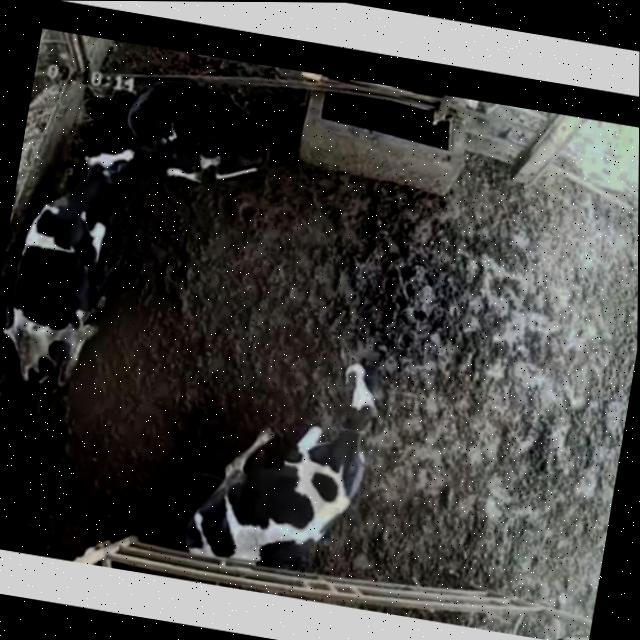lay: (175, 318, 412, 593), (0, 128, 147, 405), (115, 67, 293, 210)
